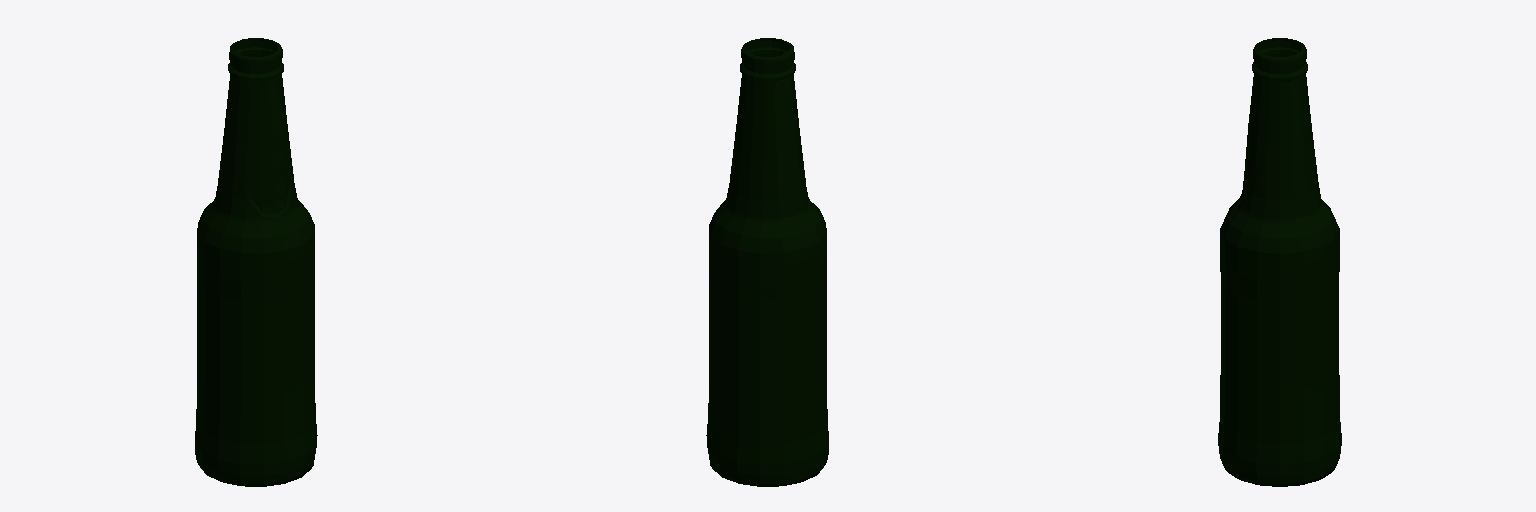
Rendered from bottle4.obj.
3 renders of one model, left to right at view 1: azimuth 30°, elevation 25°; view 2: azimuth 150°, elevation 25°; view 3: azimuth 270°, elevation 25°, orthographic.
Visible parts, largest first — view 1: GARRAFA_VIDRO_FORA_0; view 2: GARRAFA_VIDRO_FORA_0; view 3: GARRAFA_VIDRO_FORA_0.
Part boxes in pixels (x1,y1,x2,y2): GARRAFA_VIDRO_FORA_0: (195, 38, 317, 486); GARRAFA_VIDRO_FORA_0: (706, 38, 828, 486); GARRAFA_VIDRO_FORA_0: (1218, 38, 1341, 486).
Size of the model in its own units: 12.73 by 47.12 by 12.73.